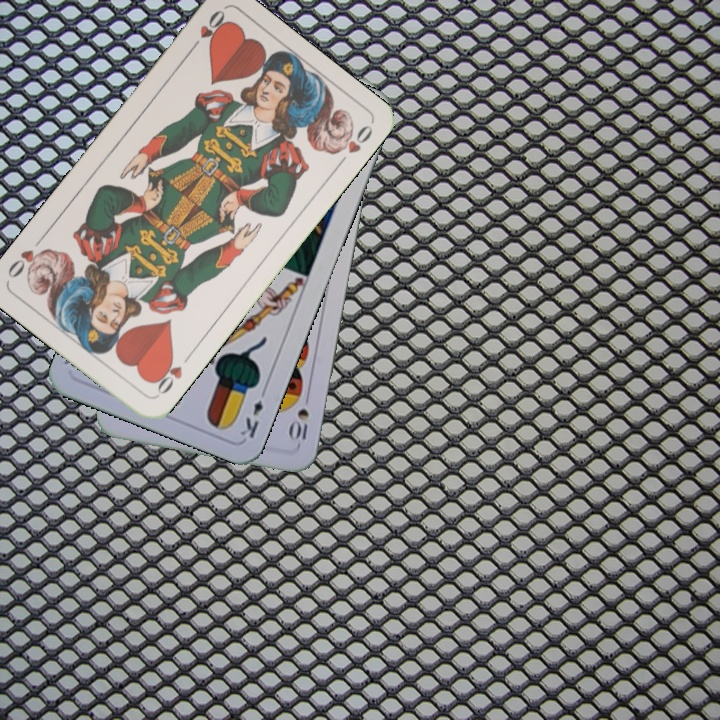EK: (236, 383, 270, 441)
HO: (148, 349, 194, 399), (185, 5, 230, 56)
S10: (286, 388, 313, 447)
